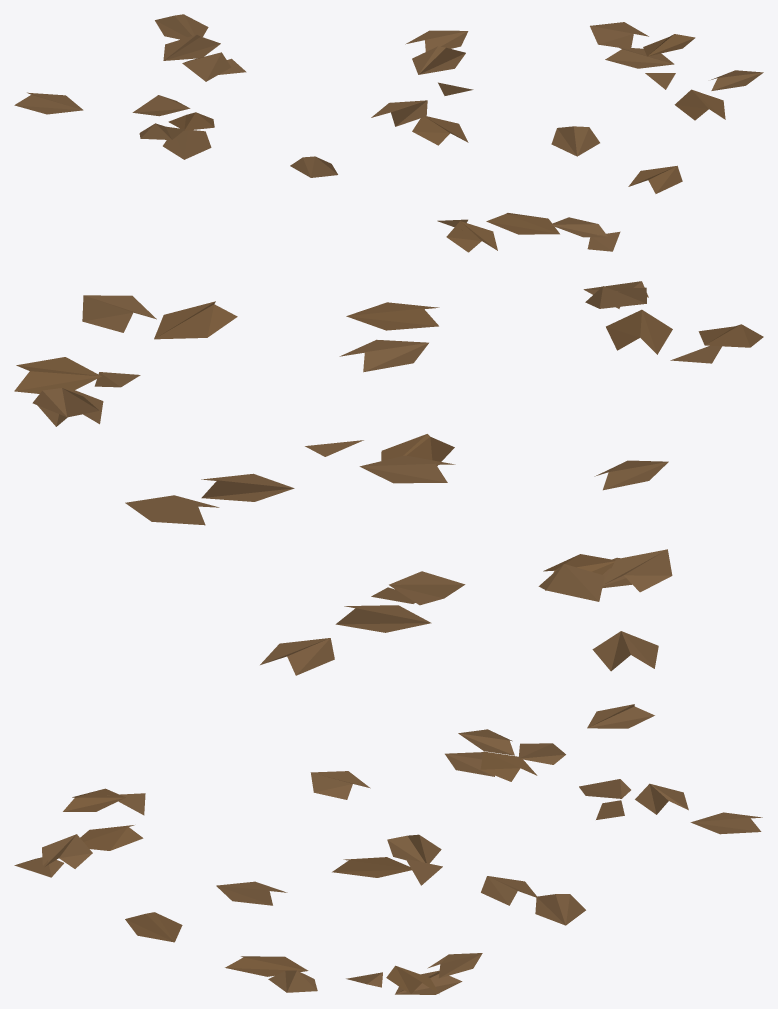
Rendered from SM_Env_Leaves_02.glb.
3 views of the same model, one above another, from view 1: azimuth 30°, elevation 25°; view 2: azimuth 150°, elevation 25°; view 3: azimuth 270°, elevation 25° (orthographic). The views are drawn at different scales.
Visible parts, largest first — view 1: SM_Env_Leaves_02; view 2: SM_Env_Leaves_02; view 3: SM_Env_Leaves_02.
Part boxes in pixels (box(x1,y1,x2,y2)): SM_Env_Leaves_02: box(14, 14, 763, 252); SM_Env_Leaves_02: box(14, 281, 763, 675); SM_Env_Leaves_02: box(14, 704, 762, 994).
Bounding box in the file's own units: 264 × 9.5 × 279.
Materials: 1 (1 with a texture image).
